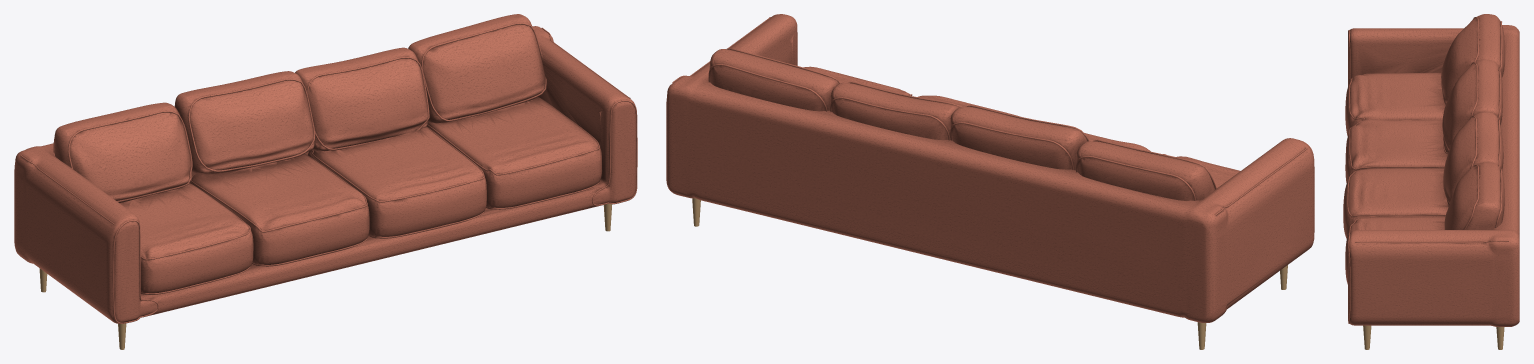
File: chenille-terracota.gltf
3 views of the same model, side by side, from view 1: azimuth 30°, elevation 25°; view 2: azimuth 150°, elevation 25°; view 3: azimuth 270°, elevation 25° (orthographic). The views are drawn at different scales.
Parts seen in each view (by area): view 1: tela_ar, madera_ar; view 2: tela_ar, madera_ar; view 3: tela_ar, madera_ar.
Boxes of the visible parts, bbox=[...] form: tela_ar: bbox=[14, 14, 637, 323]; madera_ar: bbox=[39, 203, 612, 349]; tela_ar: bbox=[666, 14, 1314, 322]; madera_ar: bbox=[692, 198, 1287, 349]; tela_ar: bbox=[1343, 14, 1519, 326]; madera_ar: bbox=[1363, 325, 1504, 349].
Size of the model in its own units: 2.7 by 0.8297 by 0.9224.
2 materials, 2 textured.
